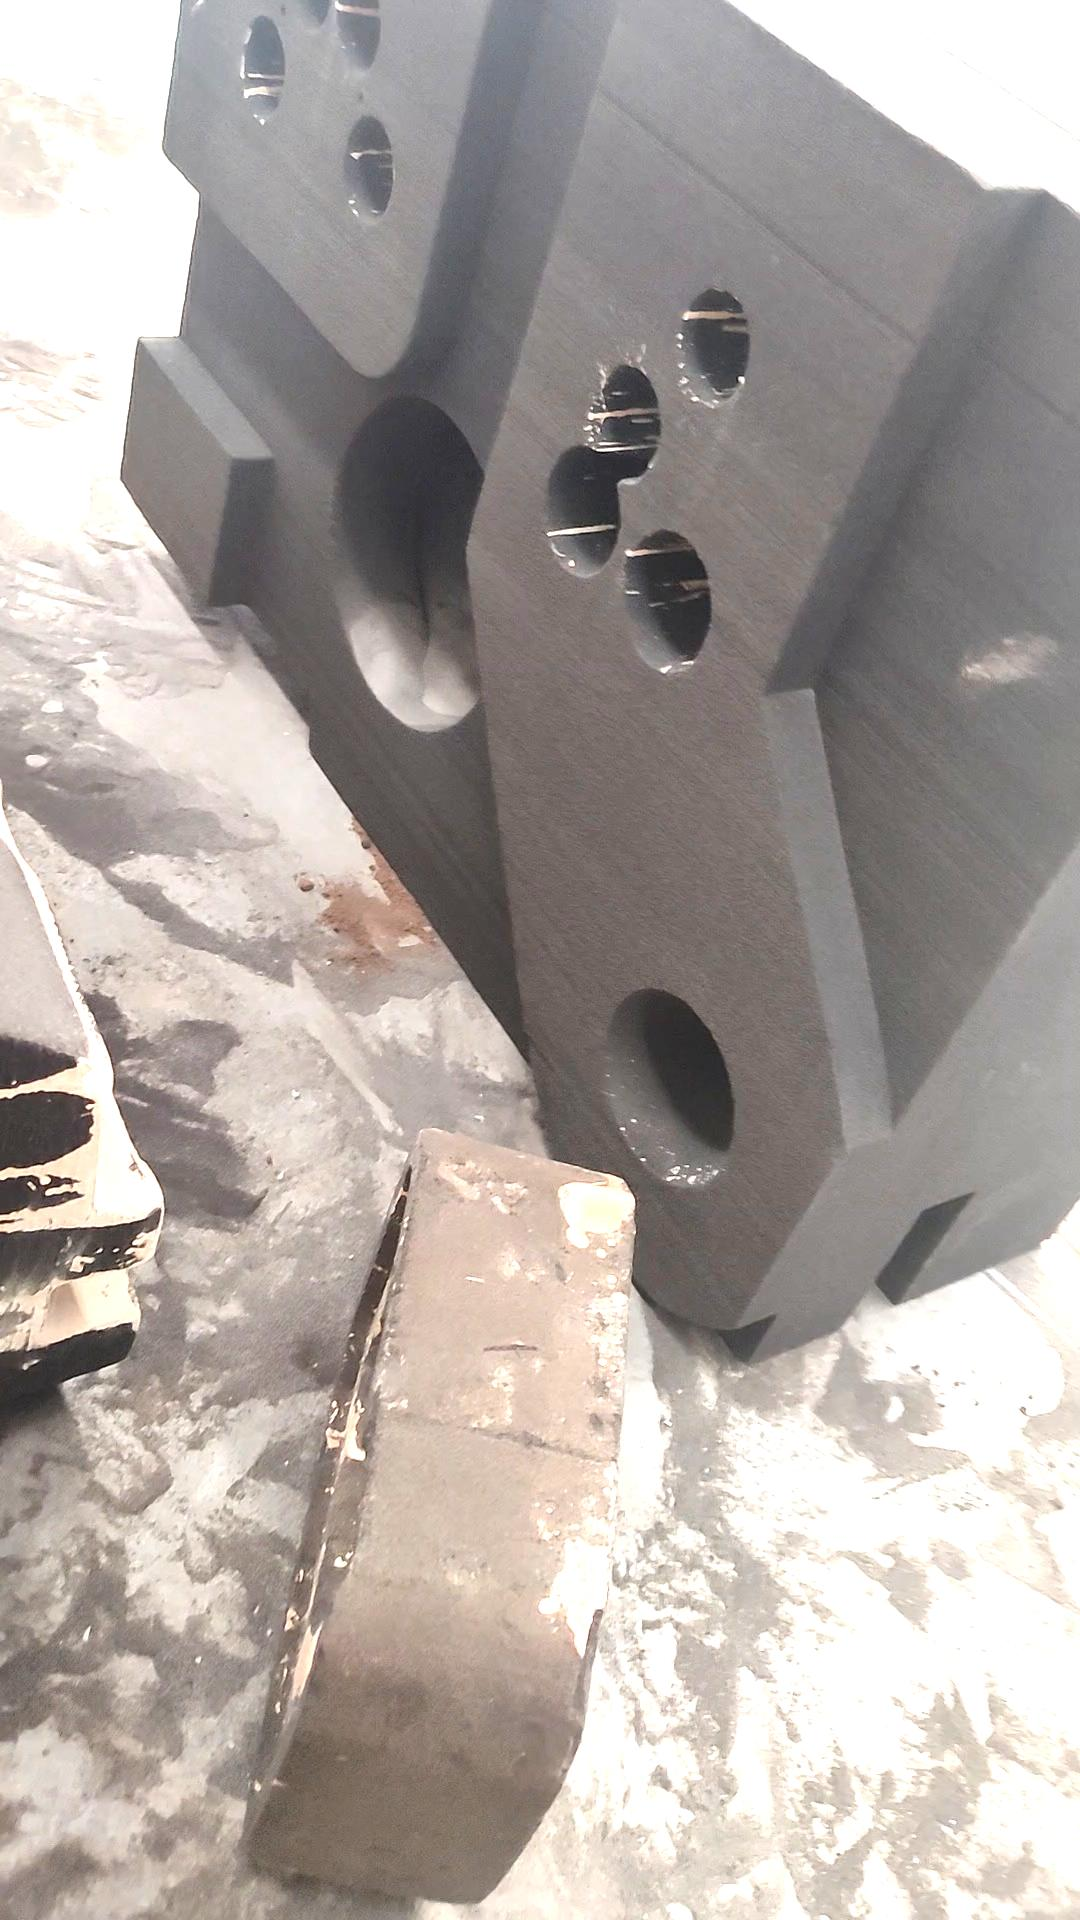pouring hole: (603, 989, 736, 1191)
